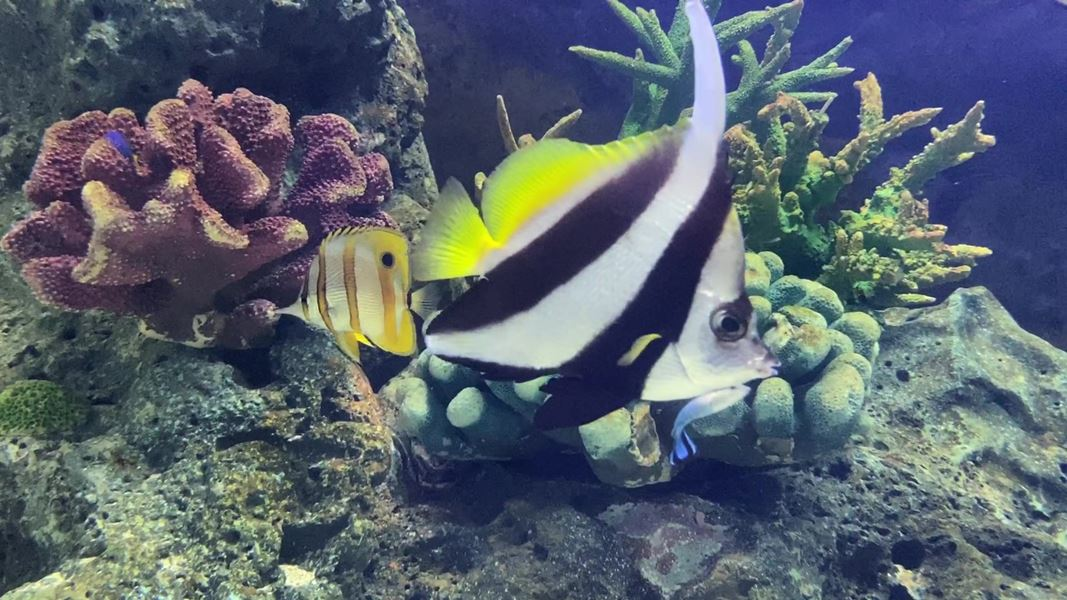Bluesteak cleaner wrasse: (662, 376, 763, 479)
